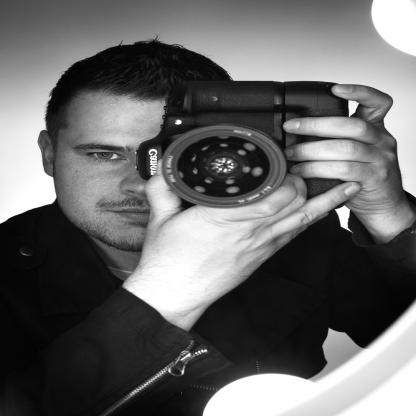Camera: (136, 80, 360, 210)
